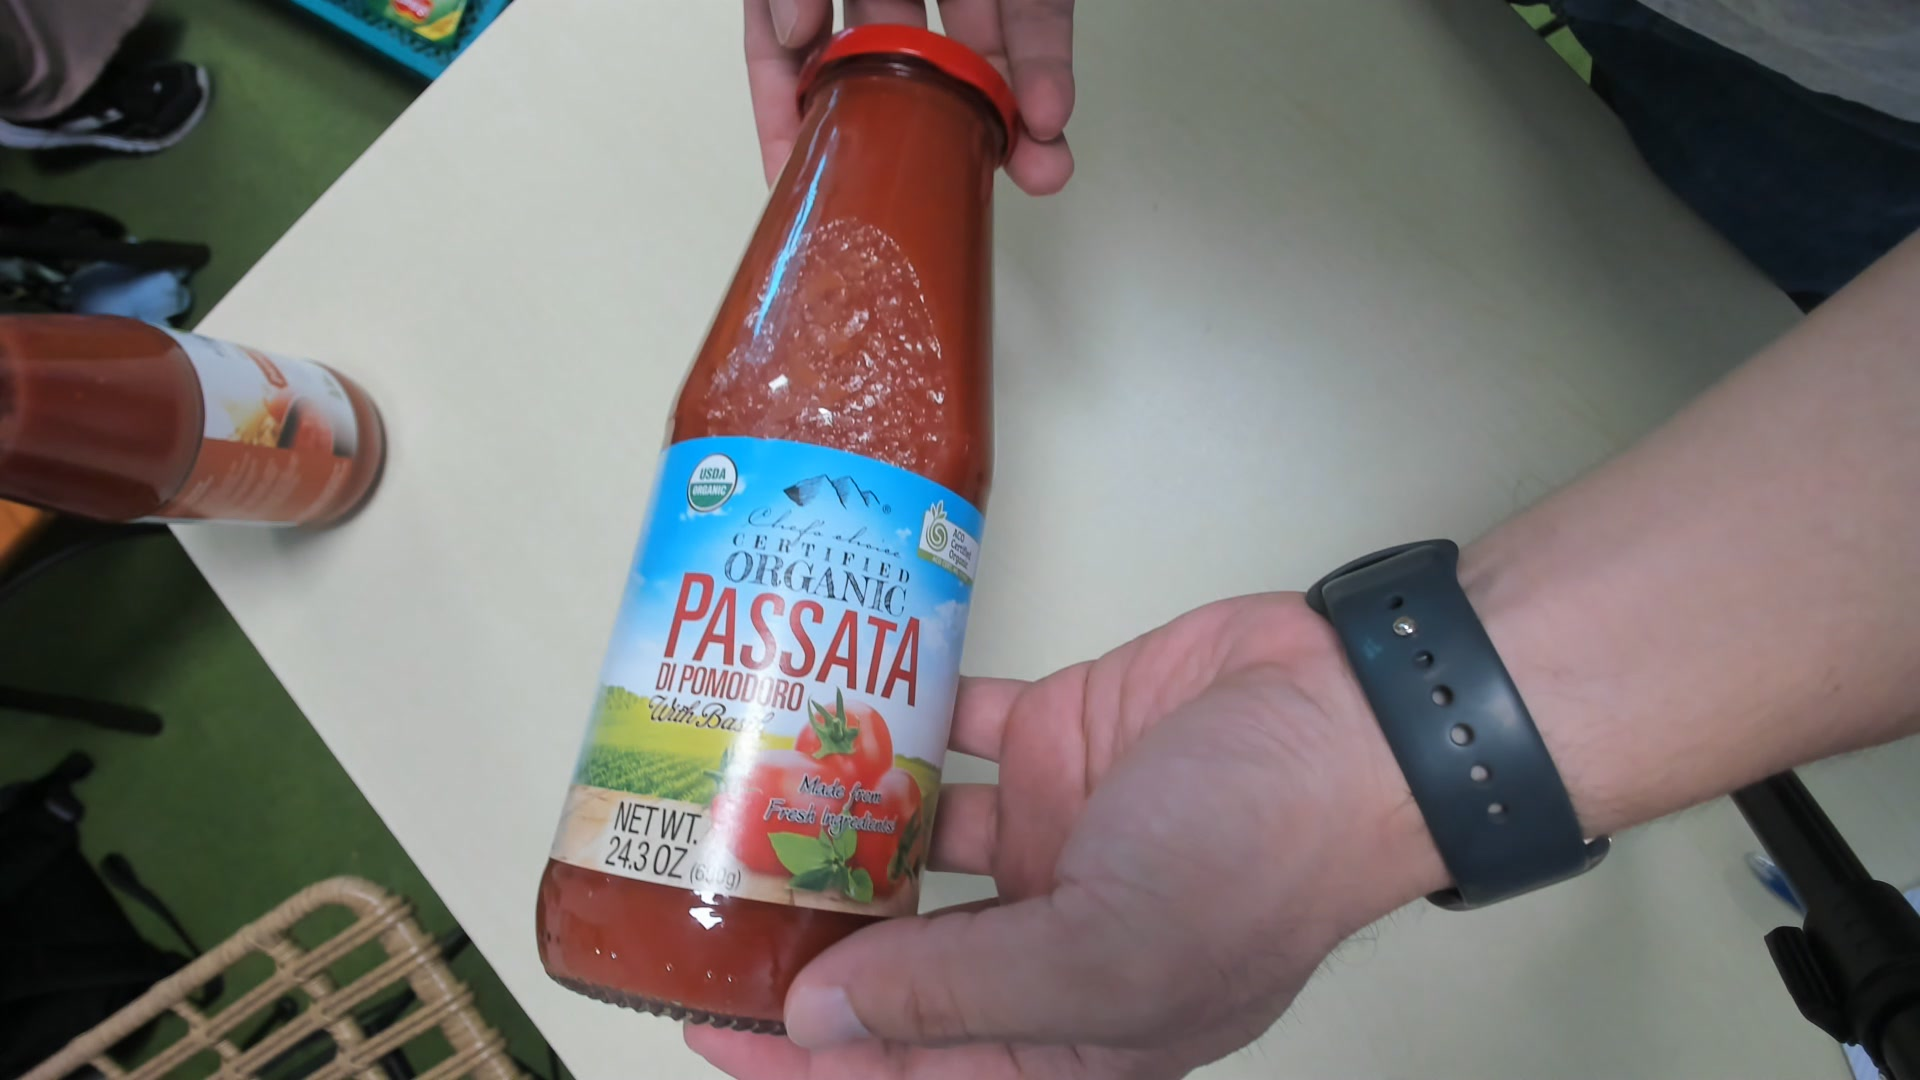PastaSauce_600-699g_NonHalal_NonHealthy: (542, 32, 1021, 1033)
